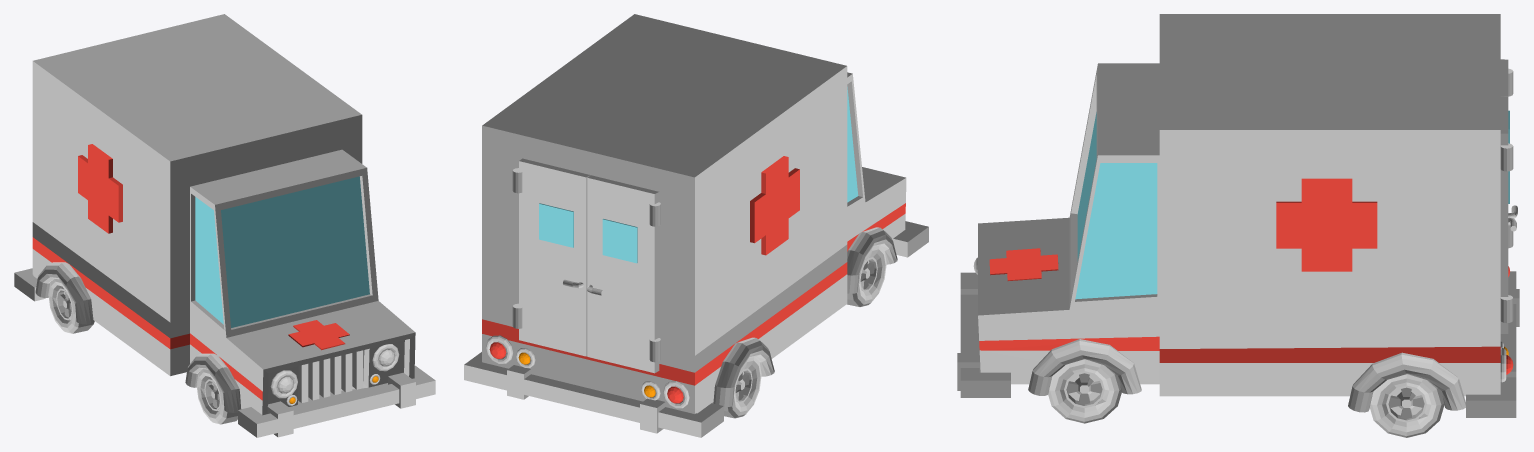
File: ambulance.obj
The picture shows the model from 3 angles, left to right: view 1: azimuth 30°, elevation 25°; view 2: azimuth 150°, elevation 25°; view 3: azimuth 270°, elevation 25°; orthographic projection. The views are drawn at different scales.
Bounding box in the file's own units: 1.01 × 1.06 × 1.78.
